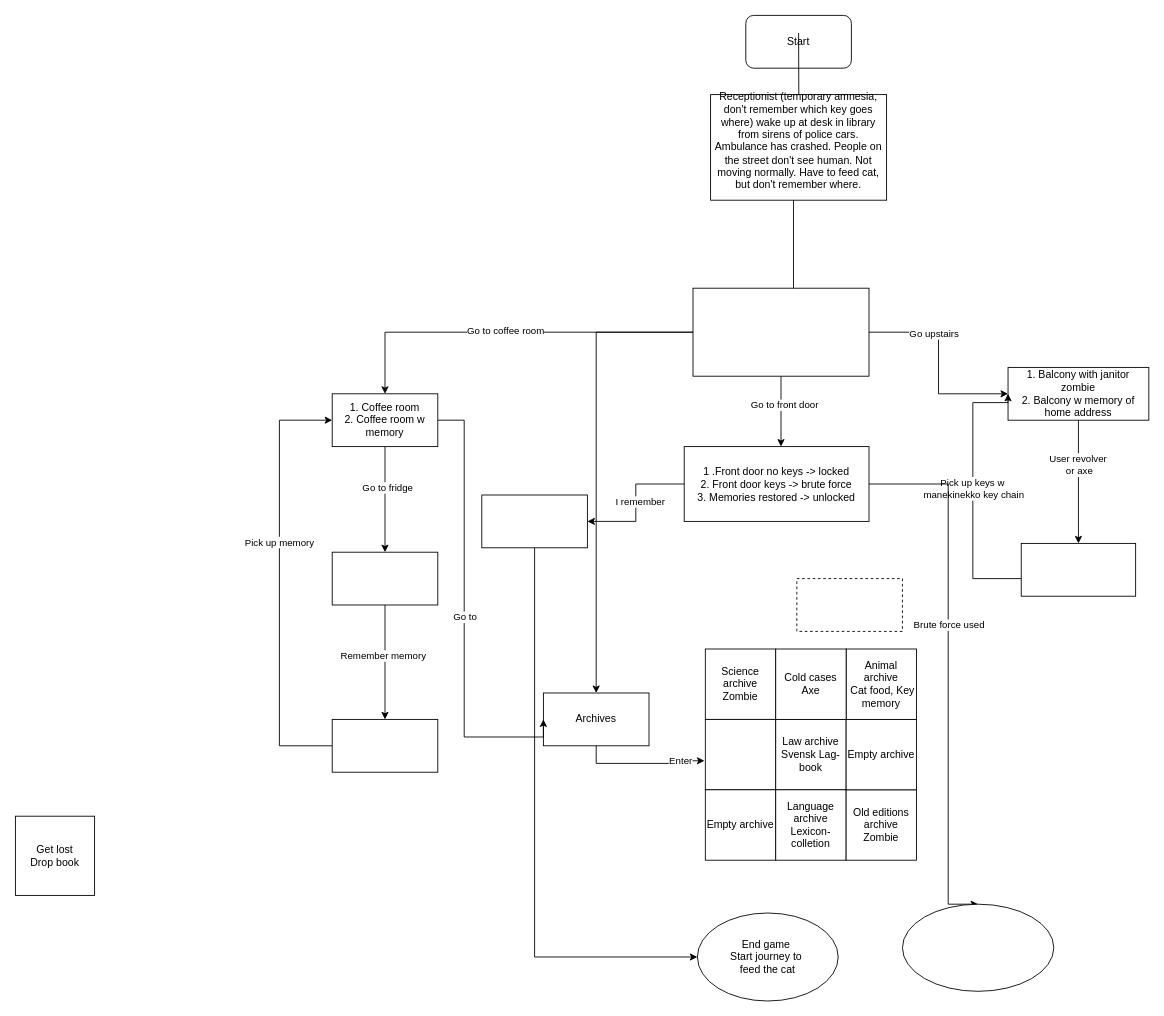
Some shapes in this 1164 by 1016 pixel diagram are drawn without their labels. The box of each missing label's shape, as (x1, y1, x2, y2) in pixels:
1. Entry no keys -> locked 2. Entry with keys -> open: (704, 719, 776, 790)
1. Reception 2. Reception (with keys): (692, 287, 869, 376)
Archive floor plan: (796, 578, 902, 631)
Cat Memory: (331, 719, 438, 772)
Fridge: (331, 551, 438, 605)
Game over Go outside, meet a zombie/get lost: (902, 903, 1054, 991)
Janitor zombie dead: (1020, 543, 1136, 596)
When 3 memories found, unlocked 4th bigger memory: (481, 494, 587, 548)
